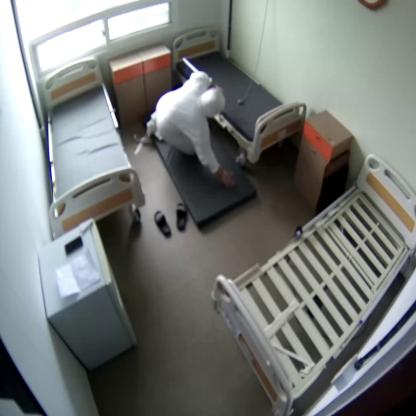Person: (146, 73, 232, 187)
